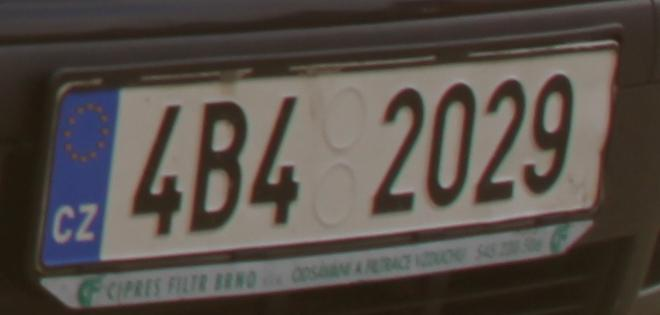0: (427, 82, 476, 209)
2: (367, 85, 424, 221), (474, 77, 527, 200)
4: (249, 96, 304, 228), (131, 108, 183, 237)
9: (524, 74, 573, 197)
B: (191, 99, 249, 232)
